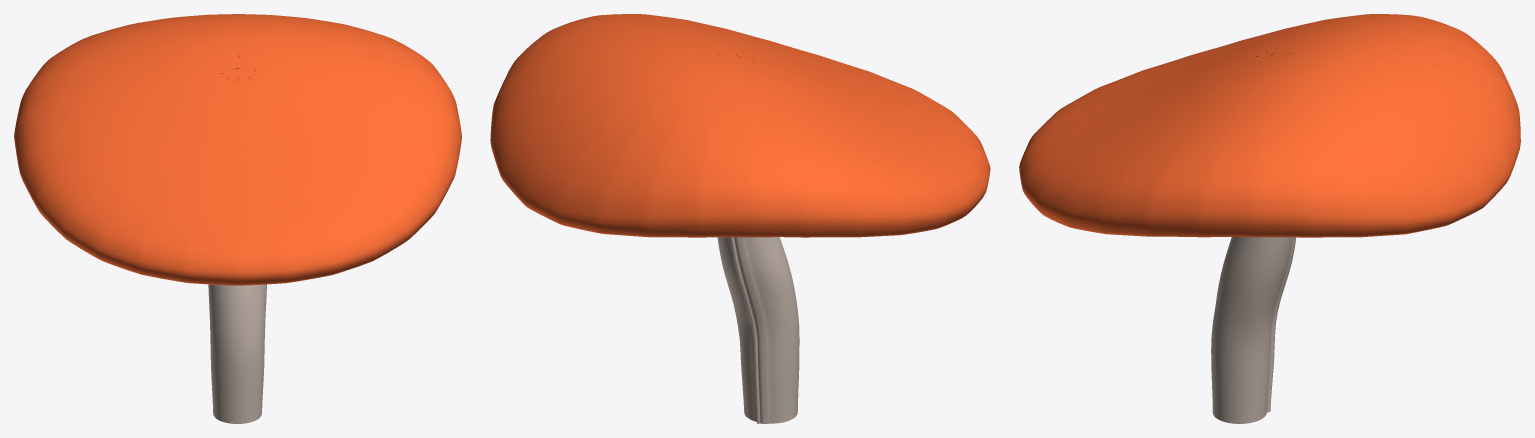
Rendered from mush fbx.FBX.
3 views of the same model, side by side, from view 1: azimuth 30°, elevation 25°; view 2: azimuth 150°, elevation 25°; view 3: azimuth 270°, elevation 25° (orthographic). The views are drawn at different scales.
Parts seen in each view (by area): view 1: Circle021; view 2: Circle021; view 3: Circle021.
Part boxes in pixels (left/top/right/bottom): Circle021: left=14, top=14, right=461, bottom=423; Circle021: left=490, top=14, right=990, bottom=423; Circle021: left=1019, top=14, right=1520, bottom=423.
Size of the model in its own units: 2762 by 2322 by 2790.
